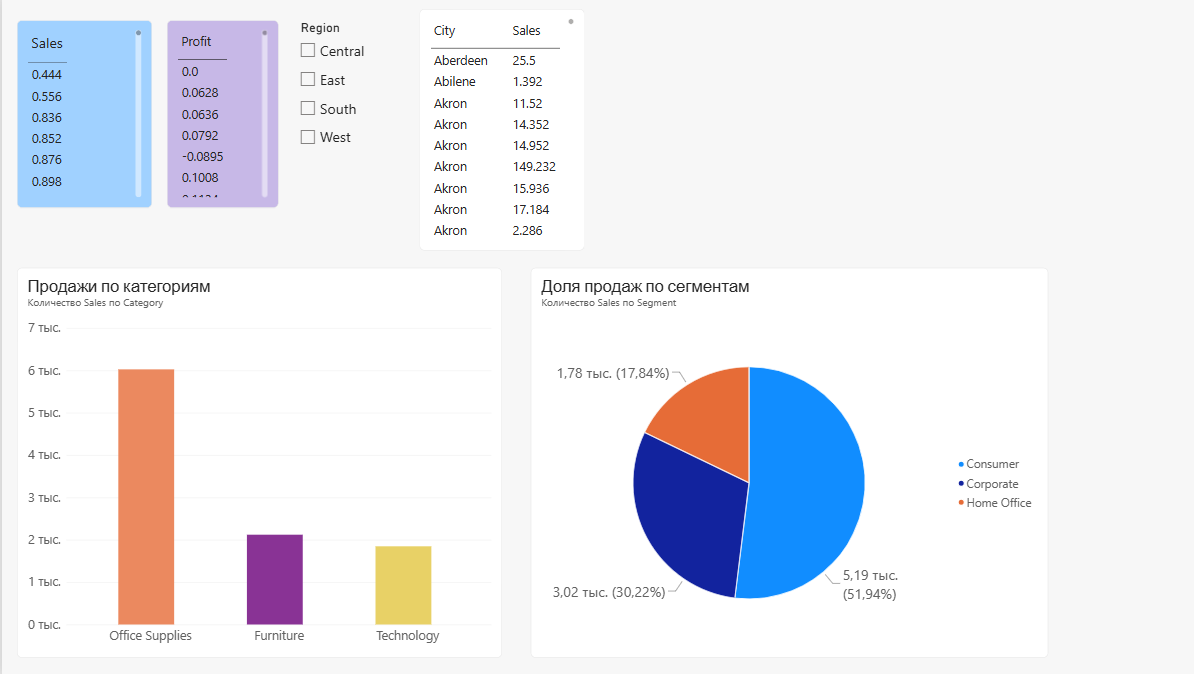

This screenshot's page, from the dashboard's own definition file:
{"tool":"powerbi","page":{"name":"Страница 1","canvas":[1920,1080],"ordinal":0},"visuals":[{"type":"tableEx","fields":{"Values":["clean_data.Sales"]},"box":[24,34,216,300],"z":0},{"type":"tableEx","fields":{"Values":["clean_data.Profit"]},"box":[264,34,178,300],"z":1000},{"type":"slicer","fields":{"Values":["clean_data.Region"]},"box":[470,34,198,226],"z":2000},{"type":"columnChart","title":"Продажи по категориям","fields":{"Category":["clean_data.Category"],"Y":["CountNonNull(clean_data.Sales)"]},"box":[24,430,776,624],"z":2001},{"type":"pieChart","title":"Доля продаж по сегментам","fields":{"Category":["clean_data.Segment"],"Y":["CountNonNull(clean_data.Sales)"]},"box":[846,430,828,624],"z":2002},{"type":"tableEx","fields":{"Values":["clean_data.City","clean_data.Sales"]},"box":[668,16,264,386],"z":2003}]}

Visuals, with their boxes in screenshot pixels (x1, y1, x2, y2), scaled from the page's 1920x1080 canvas onto the 1194x674 screenshot:
tableEx - clean_data.Sales: left=15, top=21, right=149, bottom=208
tableEx - clean_data.Profit: left=164, top=21, right=275, bottom=208
slicer - clean_data.Region: left=292, top=21, right=415, bottom=162
"Продажи по категориям" columnChart: left=15, top=268, right=497, bottom=658
"Доля продаж по сегментам" pieChart: left=526, top=268, right=1041, bottom=658
tableEx - clean_data.City x clean_data.Sales: left=415, top=10, right=580, bottom=251
